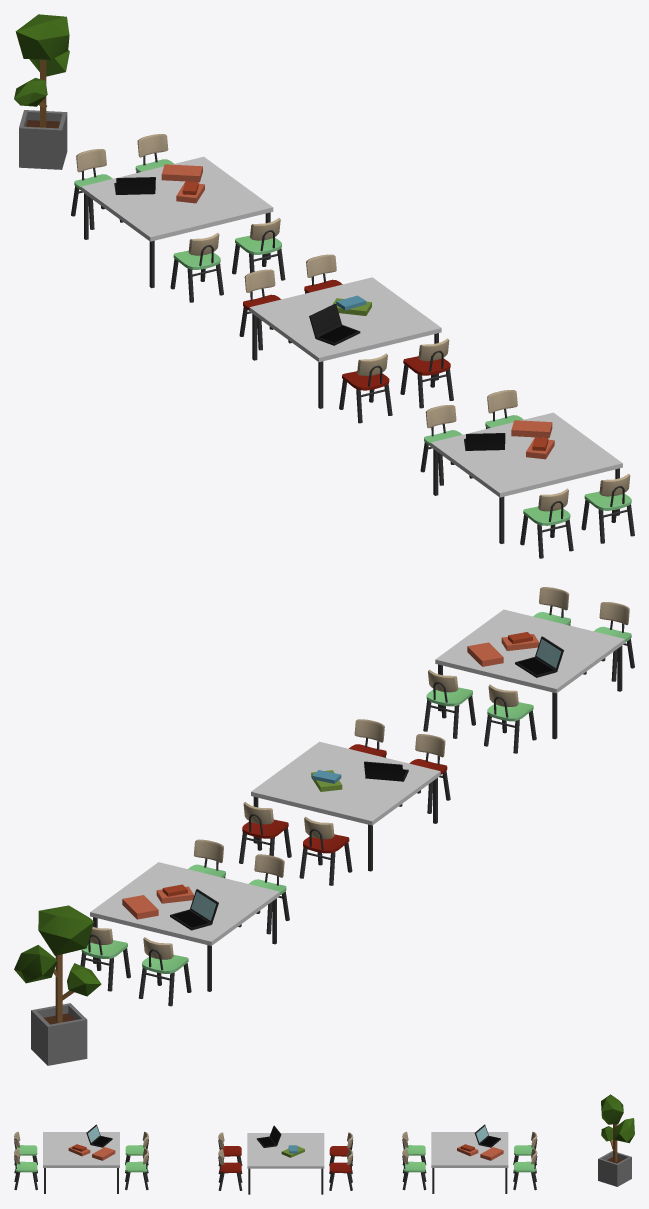
The picture shows the model from 3 angles, top to bottom: view 1: azimuth 30°, elevation 25°; view 2: azimuth 150°, elevation 25°; view 3: azimuth 270°, elevation 25°; orthographic projection. The views are drawn at different scales.
Parts seen in each view (by area): view 1: 4er Tisch A.002; view 2: 4er Tisch A.002; view 3: 4er Tisch A.002.
Boxes of the visible parts, <box> form: 4er Tisch A.002: <box>14,14,634,558</box>; 4er Tisch A.002: <box>14,587,634,1065</box>; 4er Tisch A.002: <box>14,1094,634,1194</box>.
Bounding box in the file's own units: 2.29 × 2.52 × 17.59.
2 materials, 2 textured.
